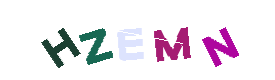E: (96, 0, 176, 80)
H: (20, 0, 100, 80)
M: (132, 0, 212, 80)
N: (180, 0, 260, 80)
Z: (56, 0, 136, 80)
